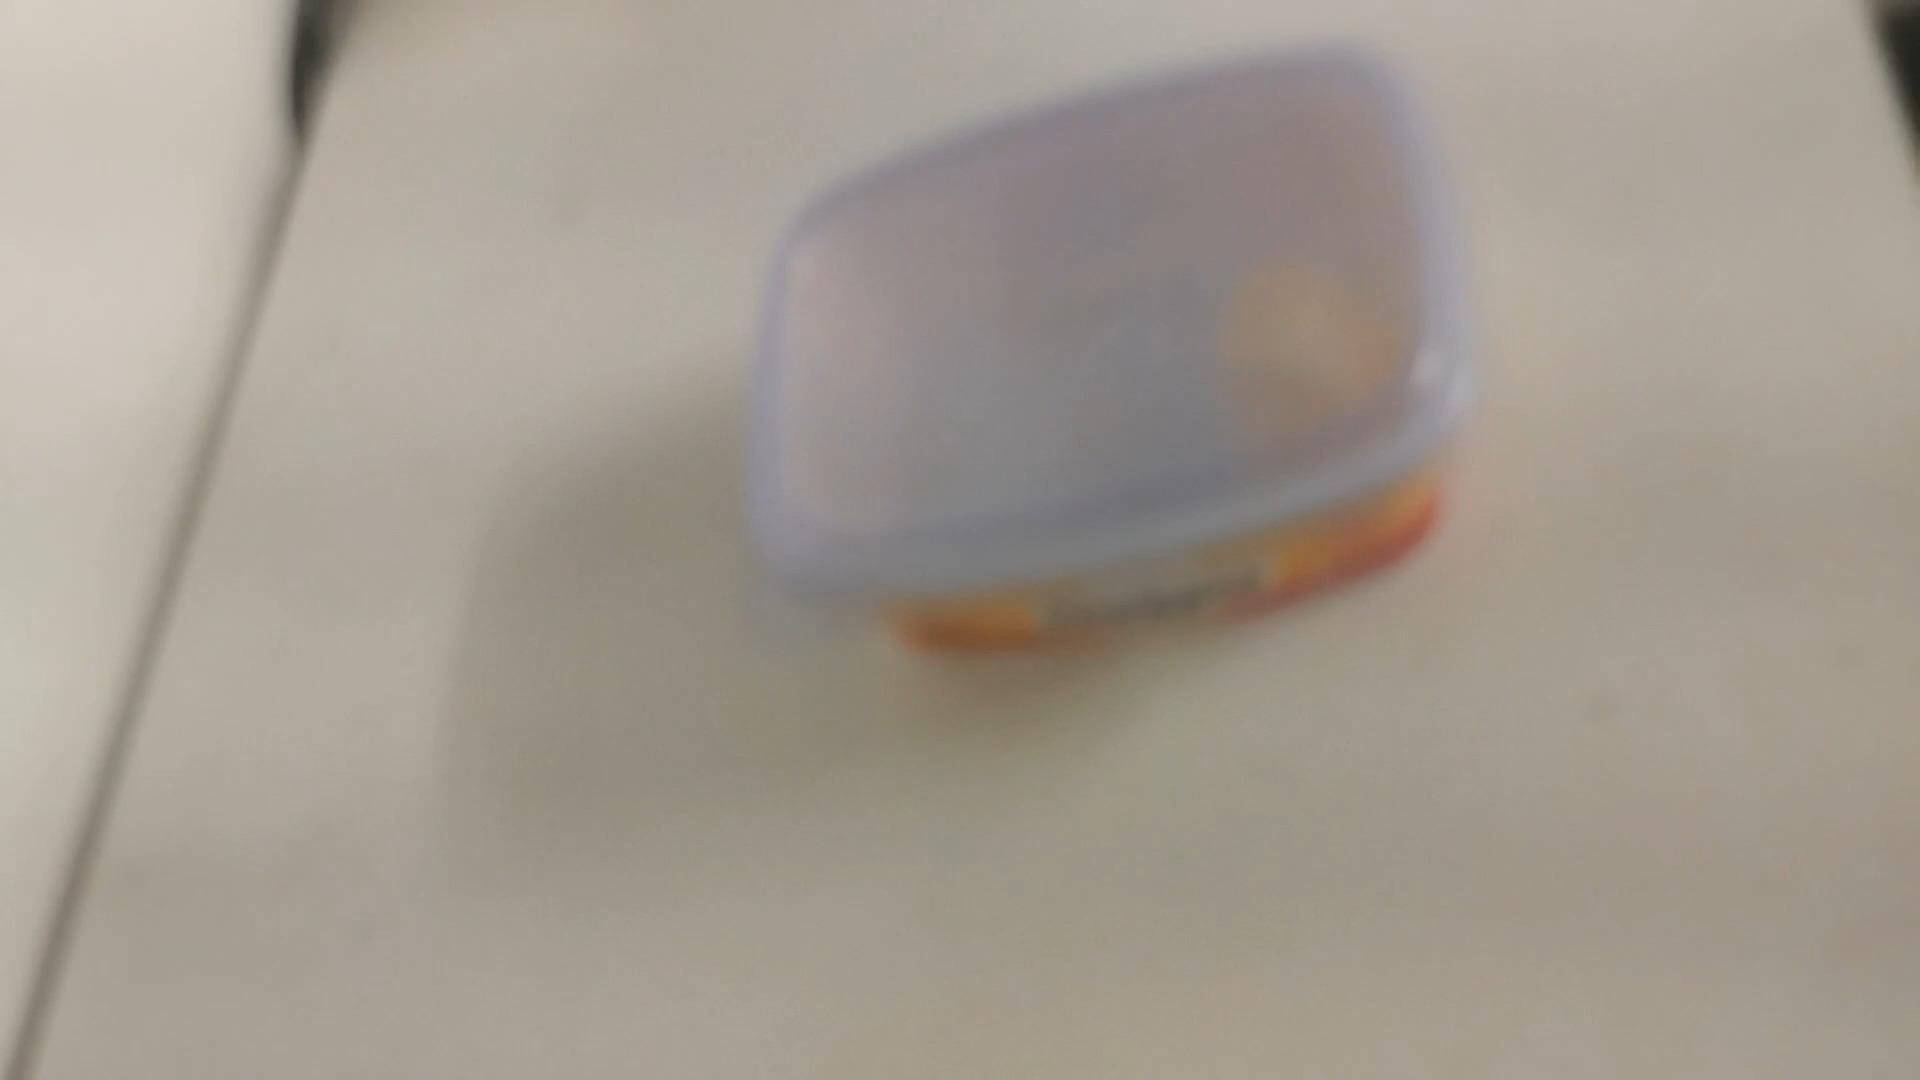butter: (738, 44, 1484, 670)
